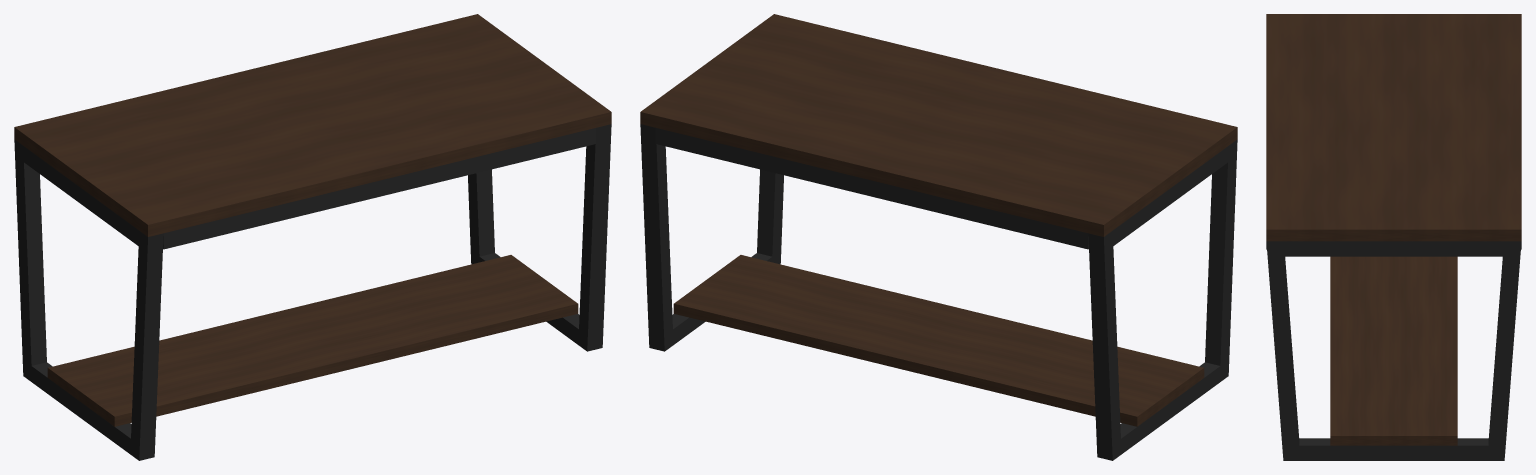
Rendered from mesa-living-nord-estante-ebano-negro-4cm.glb.
The picture shows the model from 3 angles, left to right: view 1: azimuth 30°, elevation 25°; view 2: azimuth 150°, elevation 25°; view 3: azimuth 270°, elevation 25°; orthographic projection. The views are drawn at different scales.
Visible parts, largest first — view 1: Tapa de madera maciza 120 x 60 x 3 cm, Estante inferior de madera de 120 cm (proporción aproximada), Patas inclinadas con cortes a inglete, Larguero longitudinal superior de hierro 4 x 4 mm, Travesaño inferior del trapecio, perfil 4 cm (×2), Travesaño superior del trapecio, perfil 4 cm; view 2: Tapa de madera maciza 120 x 60 x 3 cm, Estante inferior de madera de 120 cm (proporción aproximada), Patas inclinadas con cortes a inglete, Larguero longitudinal superior de hierro 4 x 4 mm, Travesaño inferior del trapecio, perfil 4 cm (×2), Travesaño superior del trapecio, perfil 4 cm; view 3: Tapa de madera maciza 120 x 60 x 3 cm, Estante inferior de madera de 120 cm (proporción aproximada), Patas inclinadas con cortes a inglete, Travesaño superior del trapecio, perfil 4 cm, Travesaño inferior del trapecio, perfil 4 cm.
Boxes of the visible parts, left/top/right/bottom form: Tapa de madera maciza 120 x 60 x 3 cm: left=14, top=14, right=611, bottom=236; Estante inferior de madera de 120 cm (proporción aproximada): left=47, top=255, right=578, bottom=426; Patas inclinadas con cortes a inglete: left=14, top=124, right=611, bottom=460; Larguero longitudinal superior de hierro 4 x 4 mm: left=163, top=128, right=596, bottom=249; Travesaño inferior del trapecio, perfil 4 cm (×2): left=31, top=253, right=582, bottom=453; Travesaño superior del trapecio, perfil 4 cm: left=23, top=146, right=142, bottom=246; Tapa de madera maciza 120 x 60 x 3 cm: left=640, top=14, right=1237, bottom=236; Estante inferior de madera de 120 cm (proporción aproximada): left=673, top=255, right=1204, bottom=426; Patas inclinadas con cortes a inglete: left=640, top=124, right=1237, bottom=460; Larguero longitudinal superior de hierro 4 x 4 mm: left=655, top=128, right=1088, bottom=249; Travesaño inferior del trapecio, perfil 4 cm (×2): left=669, top=253, right=1224, bottom=453; Travesaño superior del trapecio, perfil 4 cm: left=1108, top=146, right=1228, bottom=249; Tapa de madera maciza 120 x 60 x 3 cm: left=1266, top=14, right=1521, bottom=241; Estante inferior de madera de 120 cm (proporción aproximada): left=1330, top=256, right=1457, bottom=445; Patas inclinadas con cortes a inglete: left=1266, top=241, right=1521, bottom=460; Travesaño superior del trapecio, perfil 4 cm: left=1275, top=241, right=1512, bottom=256; Travesaño inferior del trapecio, perfil 4 cm: left=1292, top=438, right=1495, bottom=460.
Size of the model in its own units: 1.2 by 0.6 by 0.6.
2 materials, 1 textured.
